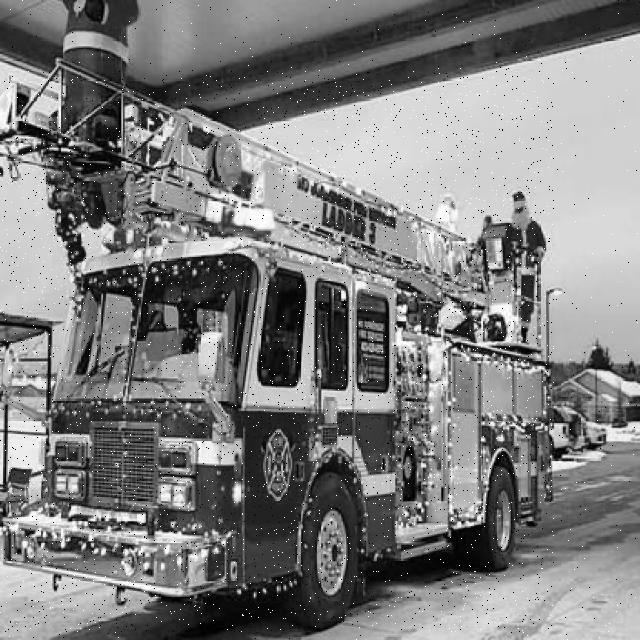Fire Truck: (0, 71, 554, 633)
